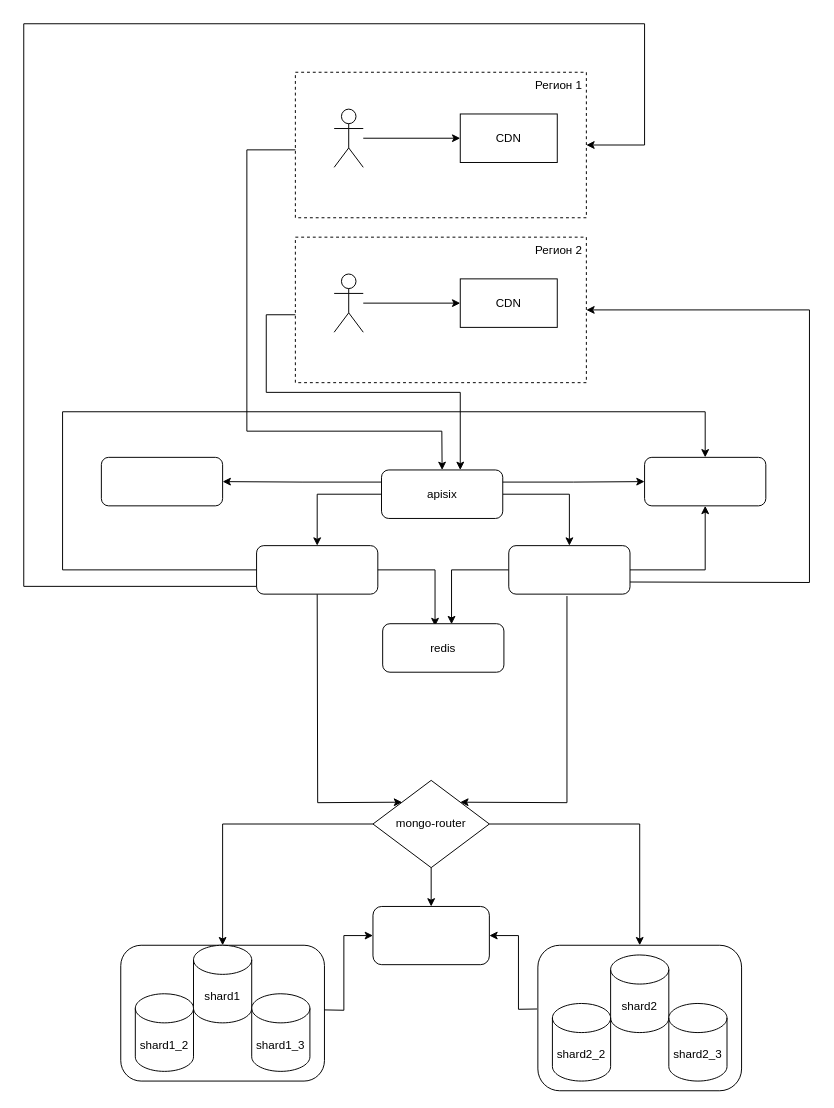
This 834x1108 diagram has some shape labels left out. The centre of each missing label's shape, as x and y in pixels:
"configSrv" belongs at [430,935].
"consul" belongs at [705,481].
"etcd" belongs at [161,481].
"pymongo_api" belongs at [569,569].
"pymongo_api_2" belongs at [317,569].
"Пользователь 1" belongs at [348,137].
"Пользователь 2" belongs at [348,302].
